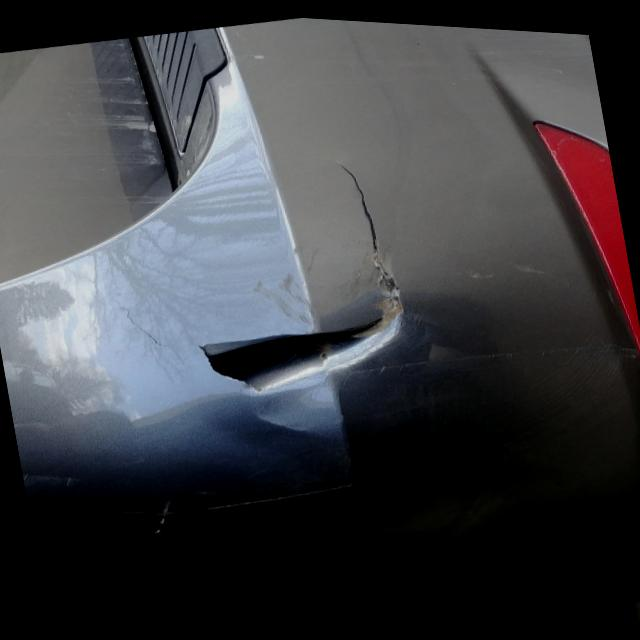Crack: (192, 158, 412, 399)
Paint-Crack: (120, 301, 169, 349)
Scratch: (251, 236, 404, 337), (199, 479, 358, 511), (84, 498, 173, 536), (22, 473, 77, 488)
